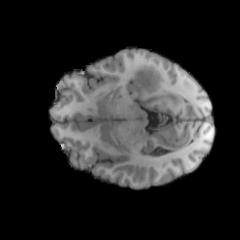glioma: (130, 66, 161, 89)
